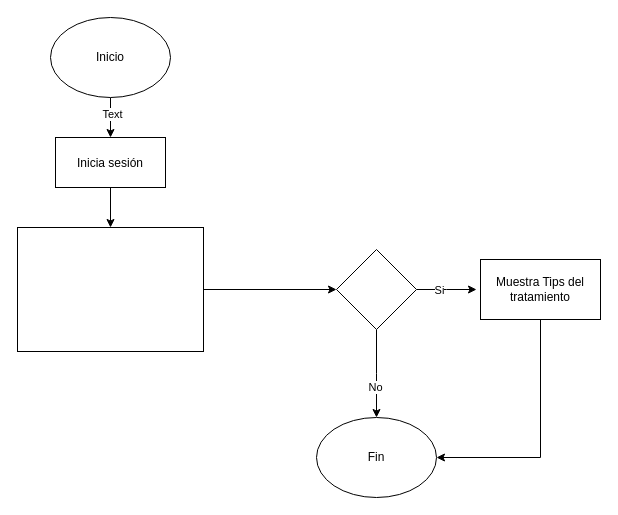
Image size: 618x515. Some labels were removed from this diagram. The centre of each missing label's shape, as x and y in pixels:
"Acceder a la sección de tips de tratamiento" goes at point 110,289.
"¿Tips Disponibles?" goes at point 376,289.
